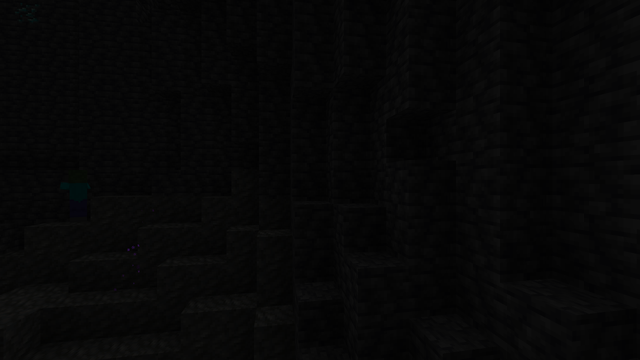zombies: (64, 171, 88, 222)
